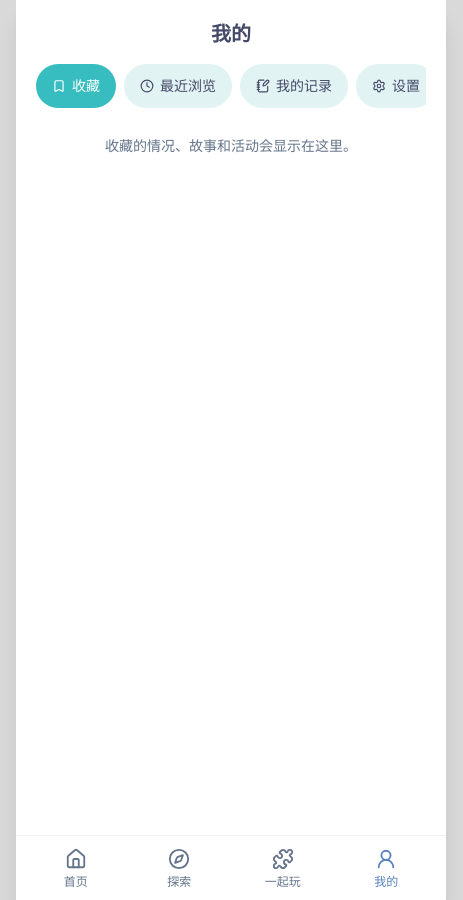
it: My Space tab navigation › switches tabs and updates the url when a tab button is clicked
Click the button "最近浏览".
click(178, 86)  # box [124, 64, 232, 108]
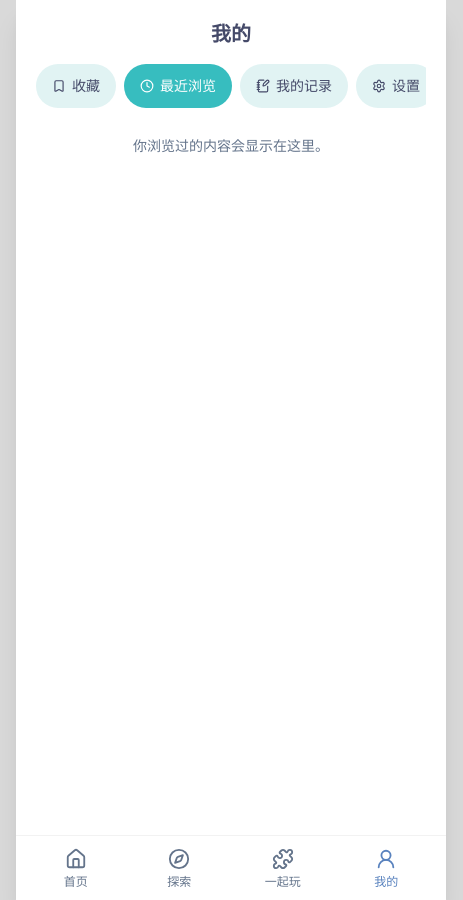
Result: the text "你浏览过的内容会显示在这里。" is shown at [133, 137, 329, 154]
